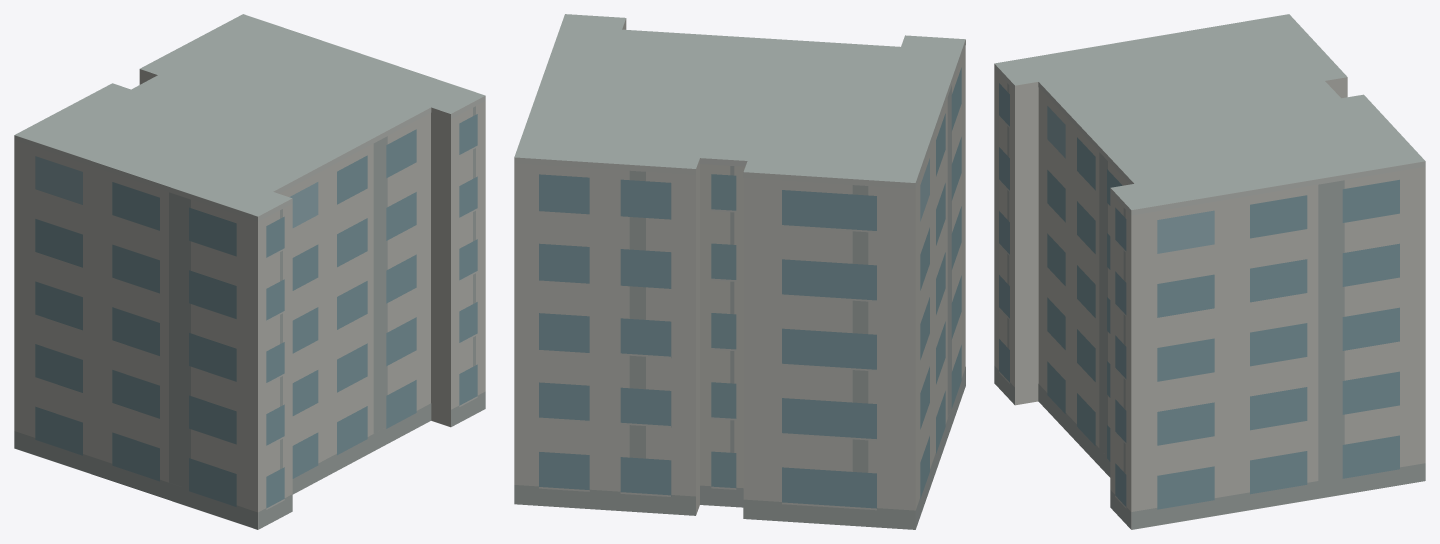
The model's file is survey-upis-33042565.glb.
The picture shows the model from 3 angles, left to right: view 1: azimuth 30°, elevation 25°; view 2: azimuth 150°, elevation 25°; view 3: azimuth 270°, elevation 25°; orthographic projection. The views are drawn at different scales.
Parts seen in each view (by area): view 1: survey-upis-33042565.tmp; view 2: survey-upis-33042565.tmp; view 3: survey-upis-33042565.tmp.
Boxes of the visible parts, box(x1,y1,x2,y2) form: survey-upis-33042565.tmp: box(14, 14, 485, 529); survey-upis-33042565.tmp: box(514, 14, 965, 529); survey-upis-33042565.tmp: box(994, 14, 1425, 529).
Size of the model in its own units: 18.7 by 14.2 by 17.38.
